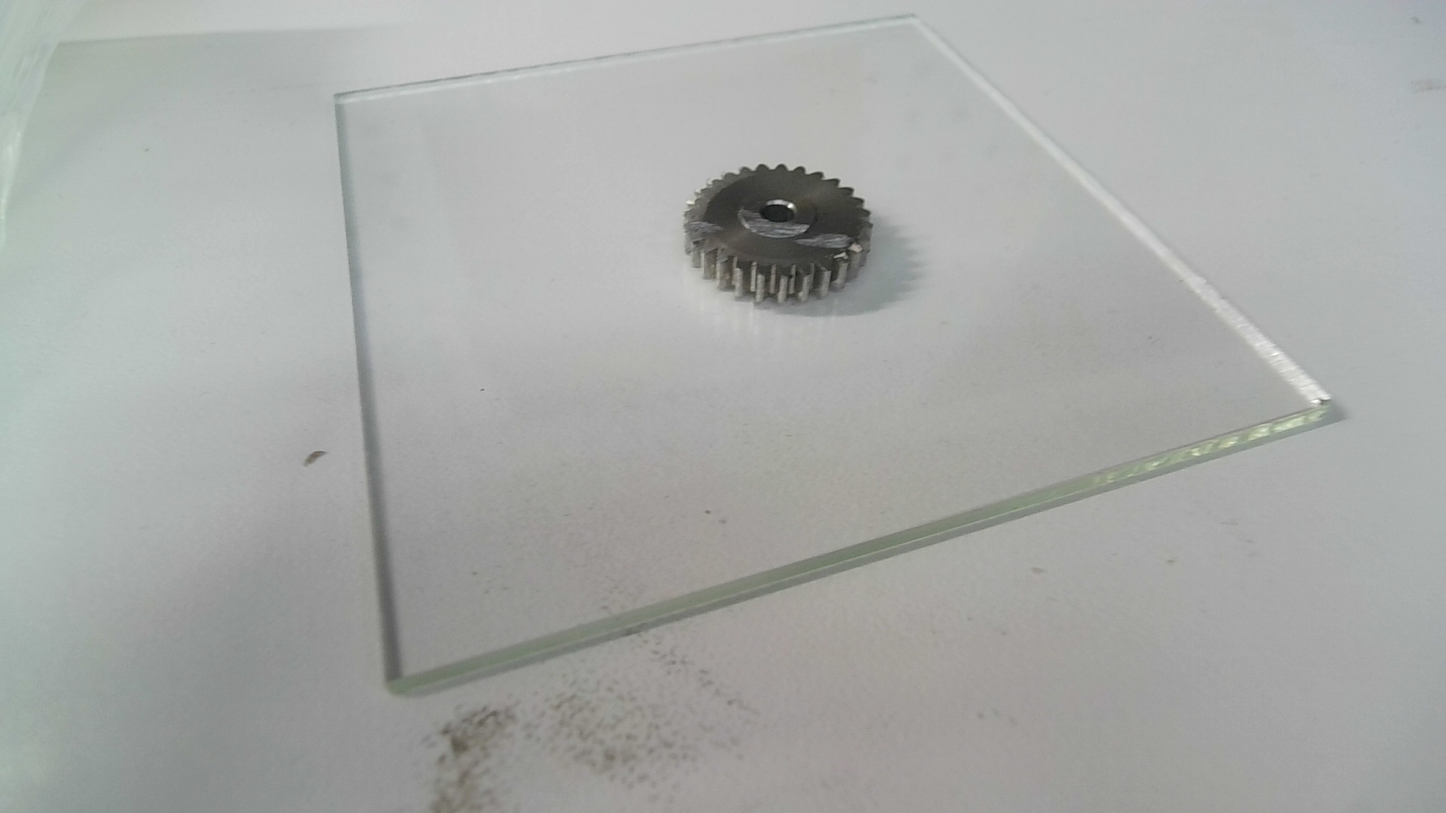gear: (678, 159, 878, 311)
